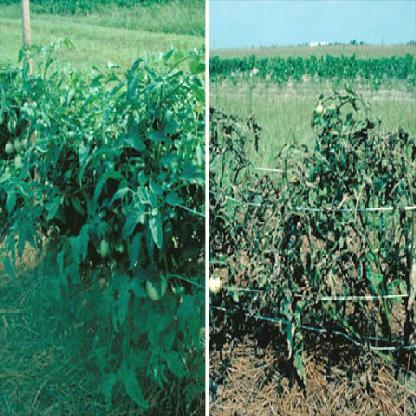Tomato leaf late blight: (147, 209, 168, 256), (114, 285, 136, 329), (92, 160, 110, 208), (125, 124, 145, 158), (72, 230, 89, 265)
